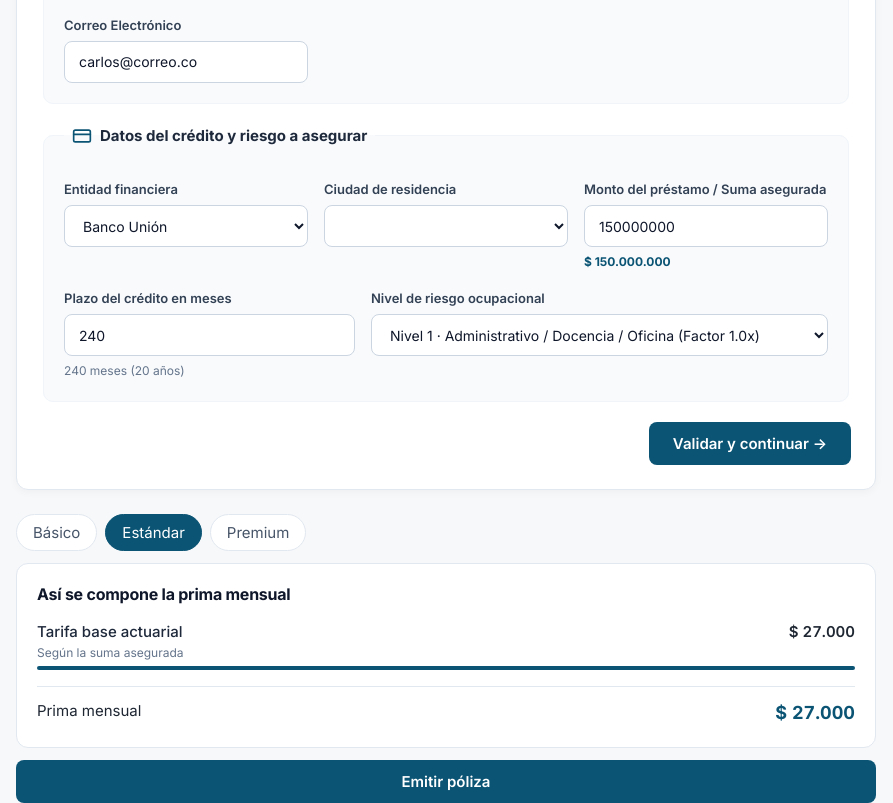
Test: CotizadorComponent (Flujo Comercial HU-WEB-01 a HU-WEB-06) › emisión de la póliza (HU-WEB-05) › ante otra falla avisa y deja reintentar
(page scrolled)
What coordinates should you click on to do the following:
click the button "Emitir póliza"
I would click on:
 (446, 782)
Its box is [16, 760, 876, 802].
(page scrolled)
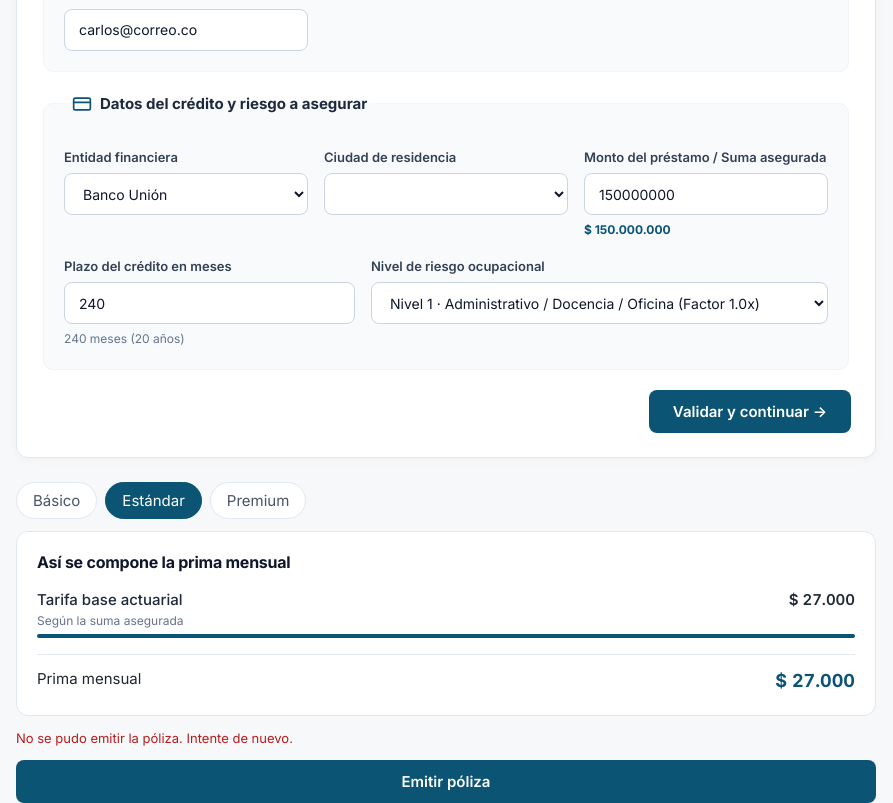
Now the message "No se pudo emitir la póliza. Intente de nuevo." is shown, box [16, 730, 293, 746]
